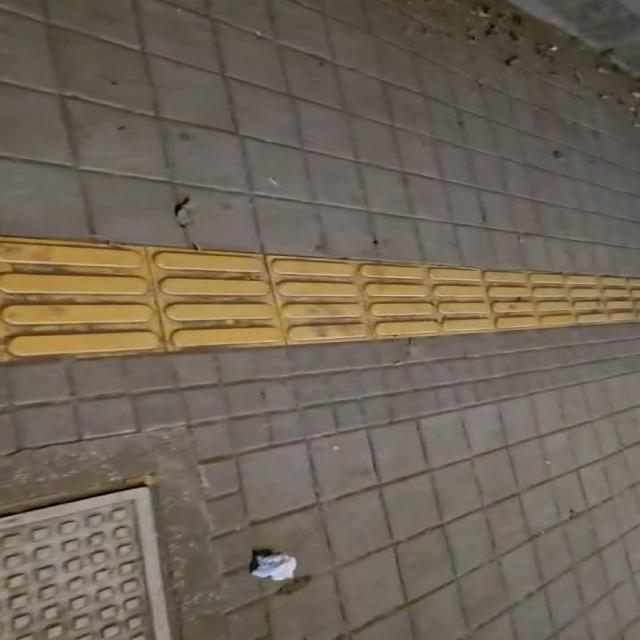bench: (0, 488, 170, 639)
